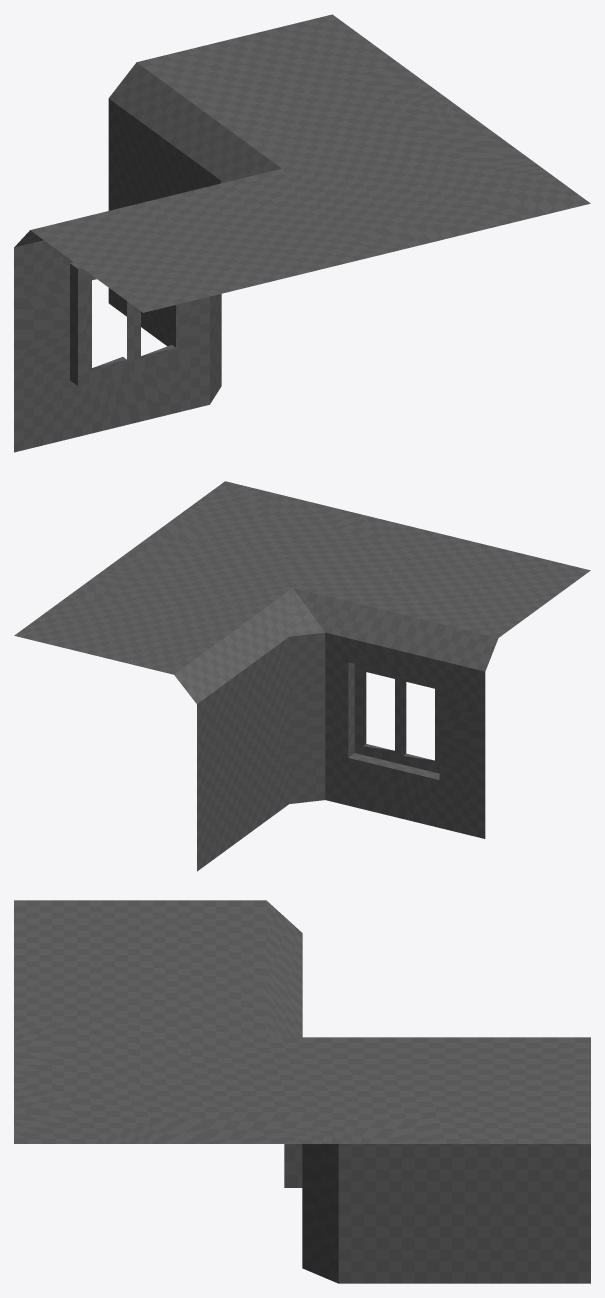
3 views of the same model, one above another, from view 1: azimuth 30°, elevation 25°; view 2: azimuth 150°, elevation 25°; view 3: azimuth 270°, elevation 25° (orthographic). The views are drawn at different scales.
Visible parts, largest first — view 1: 1; view 2: 1; view 3: 1.
Part boxes in pixels (x1,y1,x2,y2): 1: (14,14,590,452); 1: (14,481,590,871); 1: (14,900,590,1283).
Bounding box in the file's own units: 4 × 2 × 4.
Materials: 2 (2 with a texture image).
